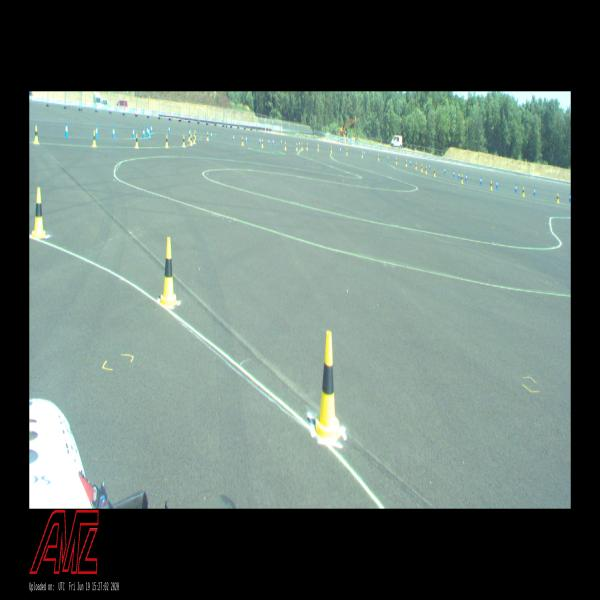blue_cone: (95, 125, 99, 138), (112, 125, 116, 138), (65, 122, 68, 137), (142, 127, 146, 138), (132, 127, 135, 138), (533, 186, 536, 196), (514, 184, 517, 193), (148, 126, 150, 139), (146, 125, 148, 136), (150, 124, 152, 134), (168, 124, 170, 134), (496, 179, 498, 189), (569, 192, 571, 202), (233, 134, 235, 142), (246, 136, 248, 144), (259, 137, 261, 145), (268, 138, 270, 146), (453, 170, 455, 178), (458, 172, 460, 180), (480, 177, 482, 185), (444, 167, 446, 174), (363, 151, 365, 157), (387, 155, 389, 161), (211, 131, 212, 139), (273, 138, 274, 146), (281, 138, 282, 146), (299, 140, 300, 148), (466, 173, 467, 181), (410, 159, 411, 166), (429, 163, 430, 170), (340, 147, 341, 153)
yellow_cone: (315, 331, 340, 438), (160, 238, 178, 306), (32, 188, 45, 239), (33, 125, 39, 144), (92, 130, 97, 147), (134, 133, 138, 148), (182, 135, 186, 147), (190, 134, 193, 145), (188, 130, 191, 141), (261, 138, 264, 148), (490, 180, 493, 190), (166, 134, 168, 148), (433, 168, 436, 177), (193, 133, 195, 144), (207, 131, 209, 141), (242, 136, 244, 146), (557, 193, 559, 203), (522, 186, 524, 196), (461, 174, 463, 183), (296, 142, 298, 150), (301, 142, 303, 150), (421, 164, 423, 172), (306, 143, 308, 150), (317, 144, 319, 151), (330, 146, 332, 153), (346, 148, 348, 155), (405, 159, 407, 166), (415, 162, 417, 169), (425, 166, 427, 173), (195, 130, 196, 140), (285, 142, 286, 150), (362, 150, 363, 158), (378, 153, 379, 160), (396, 157, 397, 164)
